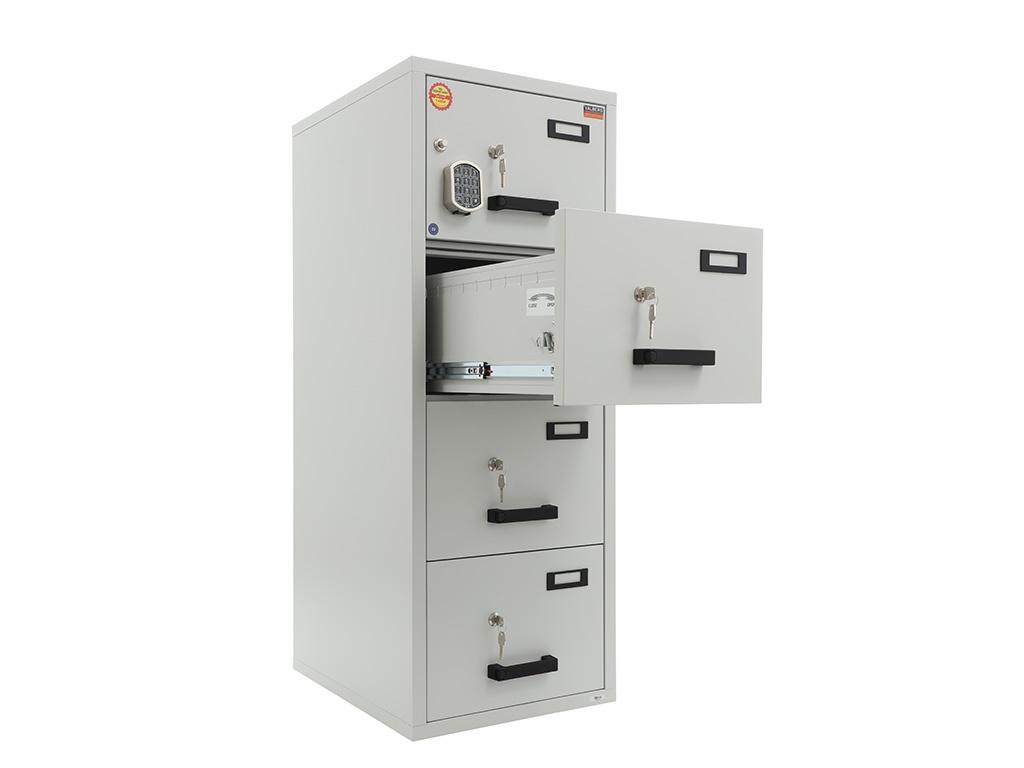Filing Cabinet: (290, 54, 763, 741)
